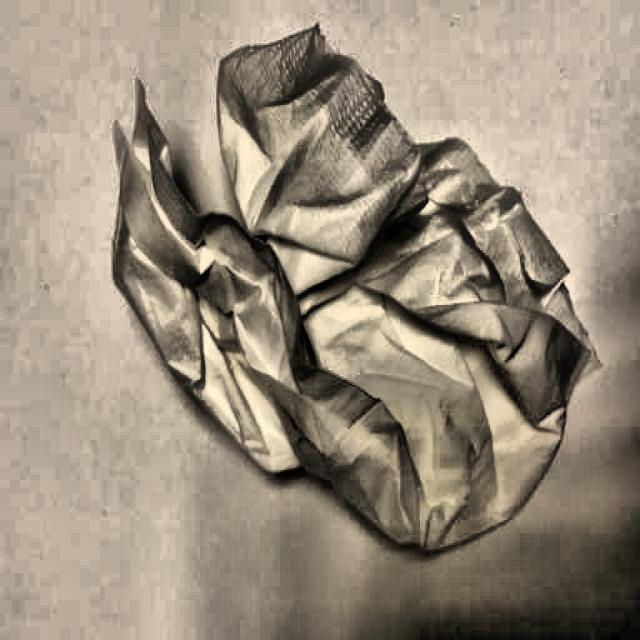paper: (136, 41, 532, 512)
